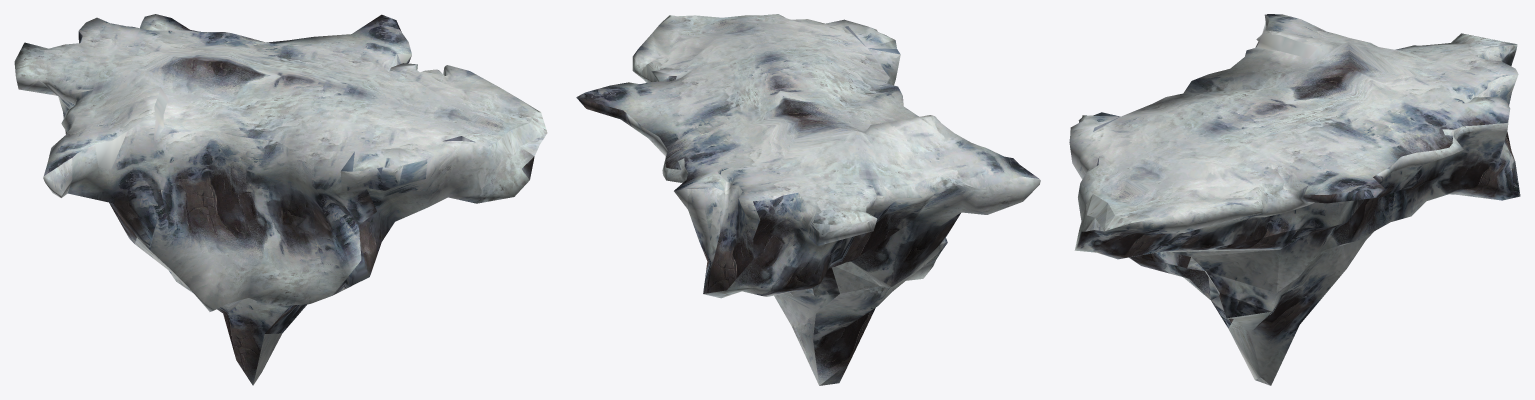
File: S_Rock_White025.FBX
The picture shows the model from 3 angles, left to right: view 1: azimuth 30°, elevation 25°; view 2: azimuth 150°, elevation 25°; view 3: azimuth 270°, elevation 25°; orthographic projection. The views are drawn at different scales.
Visible parts, largest first — view 1: S_Rock_White025; view 2: S_Rock_White025; view 3: S_Rock_White025.
Boxes of the visible parts, left/top/right/bottom form: S_Rock_White025: left=14, top=14, right=547, bottom=385; S_Rock_White025: left=576, top=14, right=1040, bottom=385; S_Rock_White025: left=1069, top=14, right=1520, bottom=385.
Bounding box in the file's own units: 2883 × 2523 × 1892.
